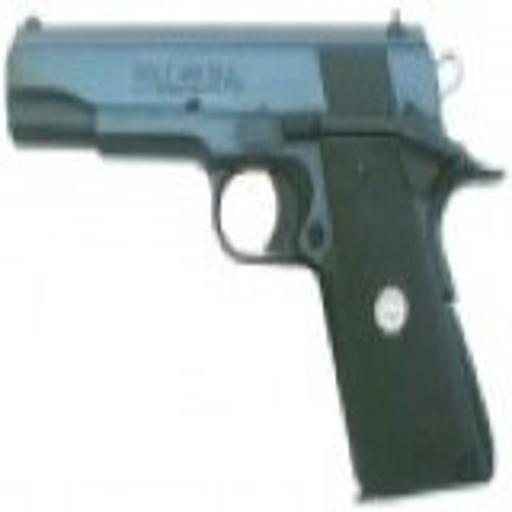Handgun: (5, 11, 507, 498)
